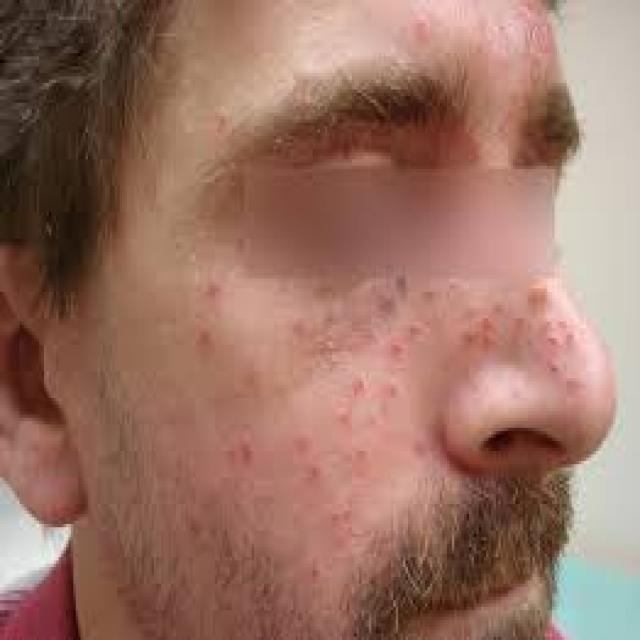Eczema: (164, 282, 420, 512), (465, 310, 581, 385)
